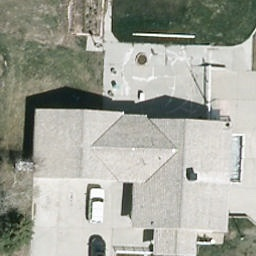car: (86, 188, 104, 225)
